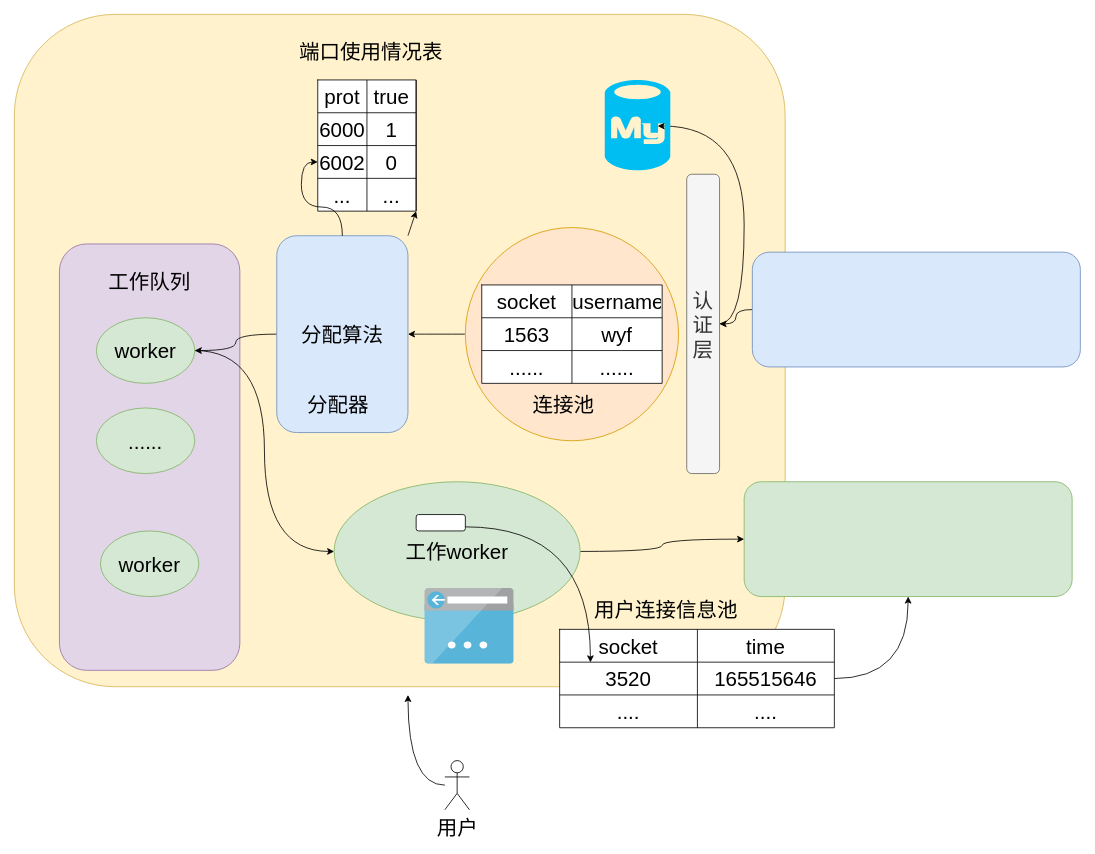
Some shapes in this 1095 by 854 pixel diagram are drawn without their labels. The centre of each missing label's shape, as x and y in pixels:
"分配的服务地址" goes at [469,626].
"数据交换隧道" goes at [907,539].
"监听隧道" goes at [916,309].
